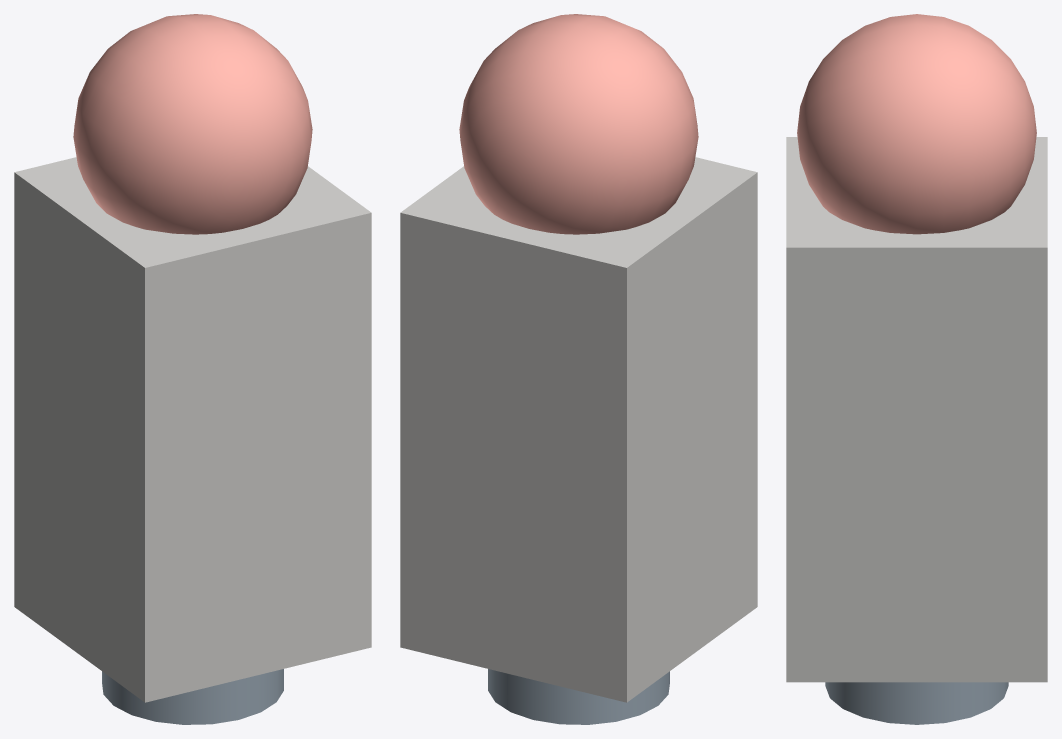
The model's file is rocket.glb.
The picture shows the model from 3 angles, left to right: view 1: azimuth 30°, elevation 25°; view 2: azimuth 150°, elevation 25°; view 3: azimuth 270°, elevation 25°; orthographic projection.
Parts seen in each view (by area): view 1: rocket; view 2: rocket; view 3: rocket.
Part boxes in pixels (x1,y1,x2,y2): rocket: (14,14,371,724); rocket: (400,14,757,724); rocket: (786,14,1047,724).
Size of the model in its own units: 1.2 by 3.35 by 1.2.
